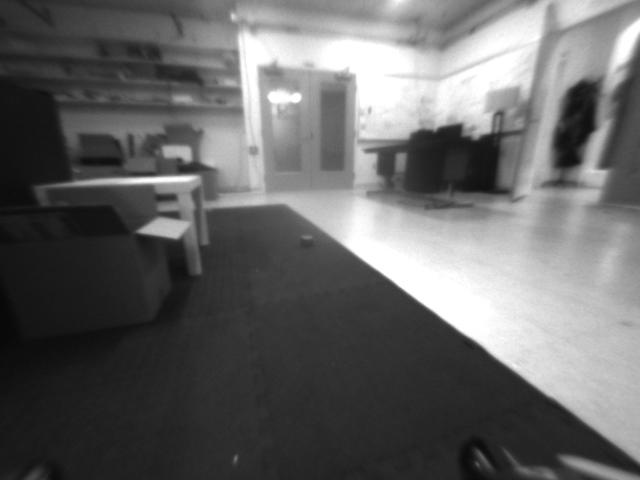dogtoy: (286, 229, 324, 250)
